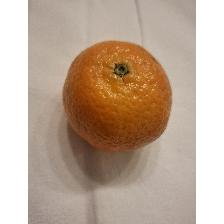Mandarine: (61, 39, 174, 153)
